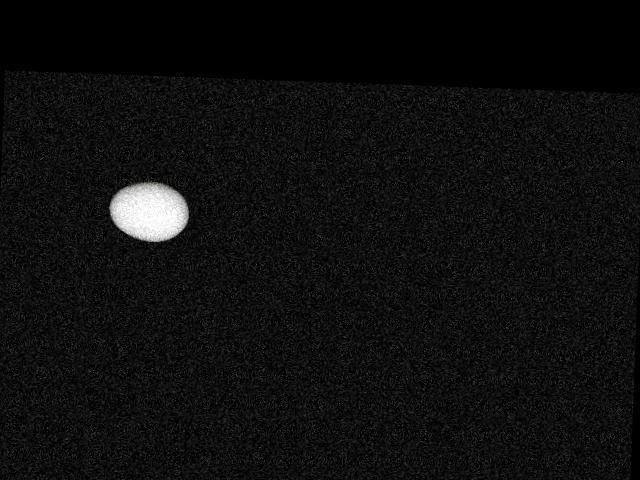egg: (109, 181, 190, 242)
